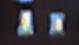MISSING: (11, 6, 39, 42), (44, 8, 71, 41)
